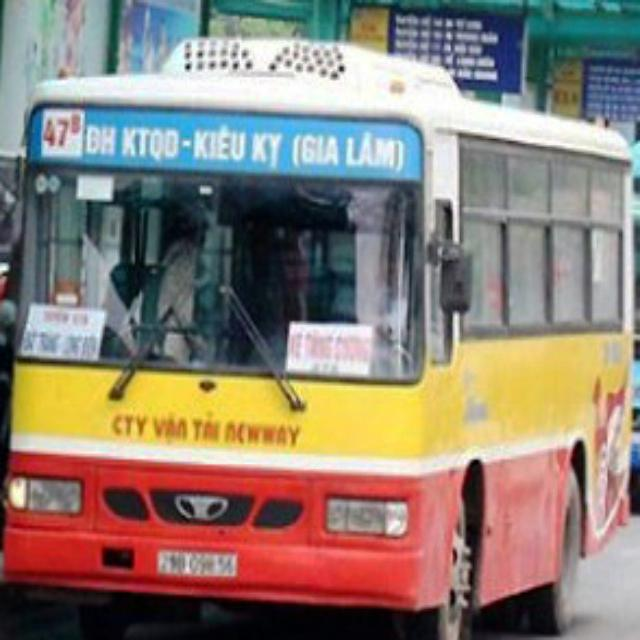Car: (0, 34, 637, 639)
